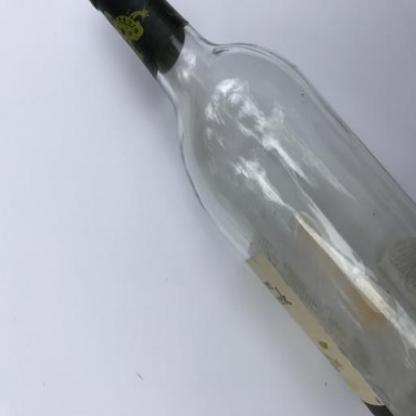trash: (90, 0, 414, 414)
